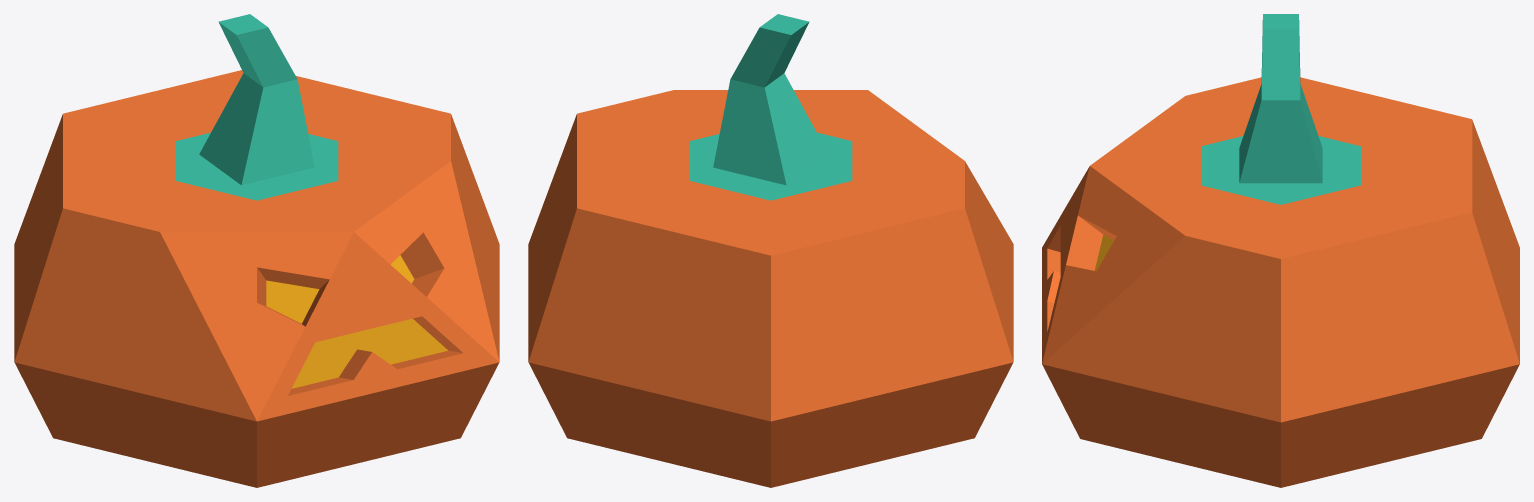
File: pumpkinCarved.fbx
3 views of the same model, side by side, from view 1: azimuth 30°, elevation 25°; view 2: azimuth 150°, elevation 25°; view 3: azimuth 270°, elevation 25° (orthographic).
Parts seen in each view (by area): view 1: pumpkinCarved; view 2: pumpkinCarved; view 3: pumpkinCarved.
Boxes of the visible parts, x1=… form: pumpkinCarved: x1=14, y1=14, x2=499, y2=487; pumpkinCarved: x1=528, y1=14, x2=1013, y2=487; pumpkinCarved: x1=1042, y1=14, x2=1519, y2=487.
Bounding box in the file's own units: 3.57 × 2.58 × 3.09.
